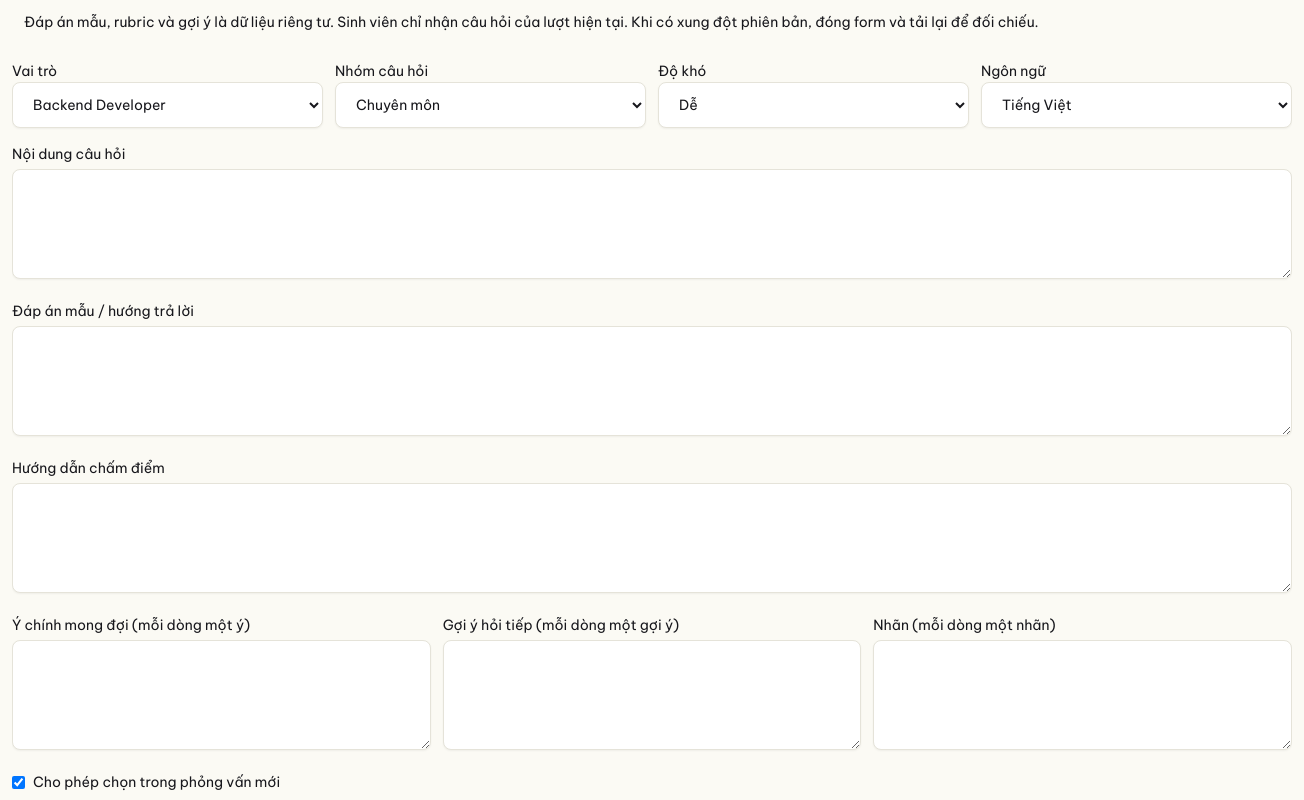
private question editing › forces the English language for English interview questions
Select "Tiếng Anh" in the dropdown labelled "Nhóm câu hỏi" at (490, 105), box [335,82,646,128]
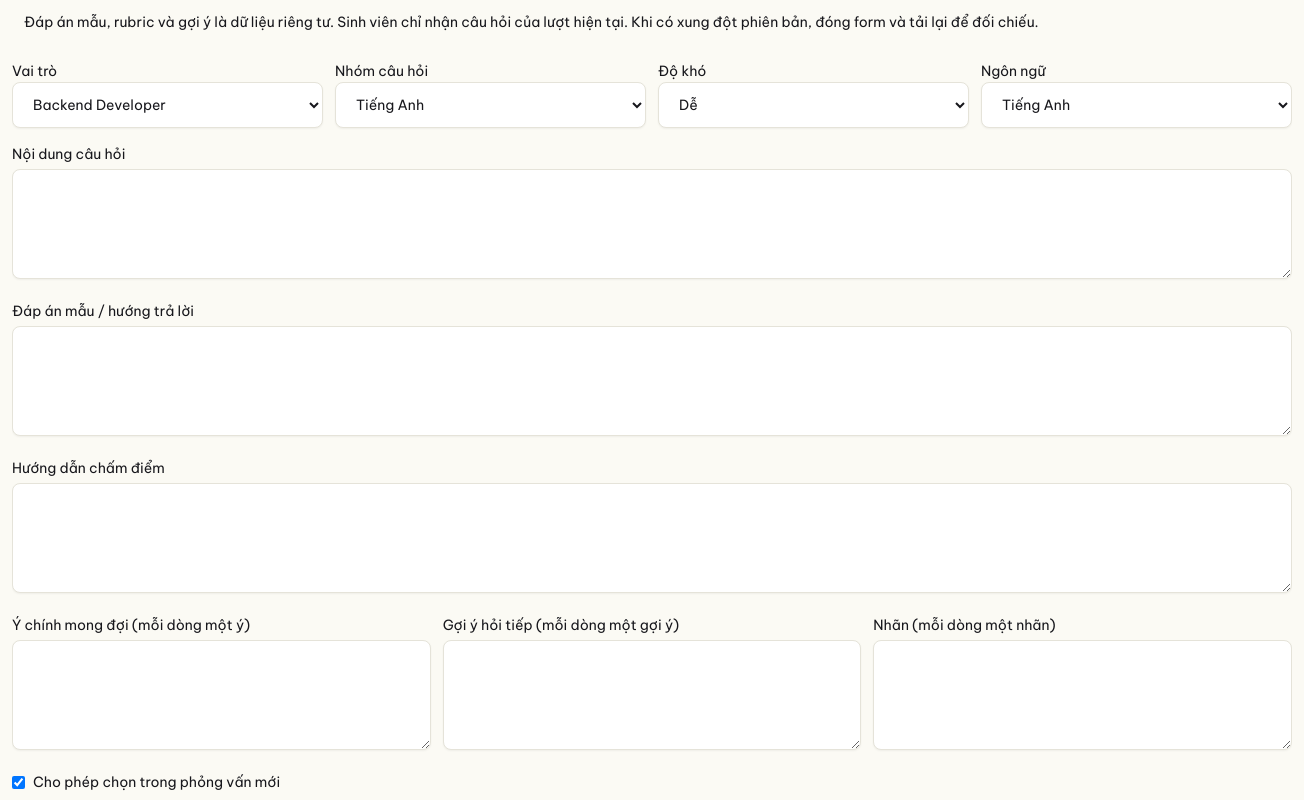
Expected: the dropdown labelled "Ngôn ngữ" shows "Tiếng Anh", [981,82,1292,128]
Expected: the dropdown labelled "Ngôn ngữ" is disabled, [981,82,1292,128]
